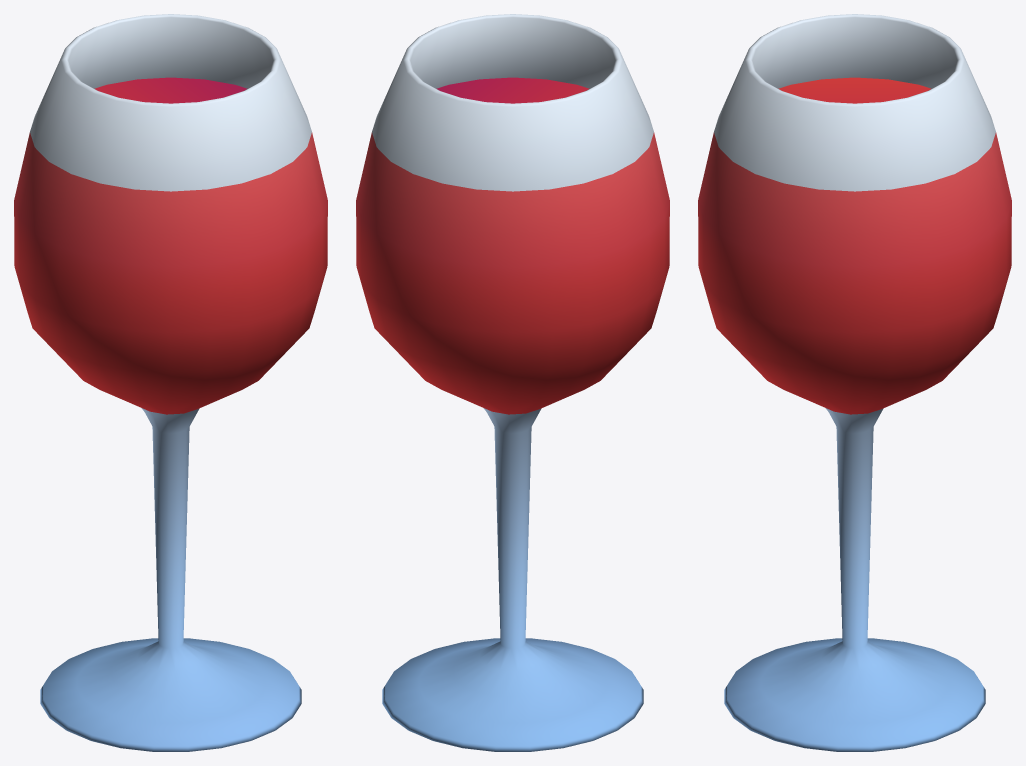
The model's file is cocktail_002.fbx.
3 views of the same model, side by side, from view 1: azimuth 30°, elevation 25°; view 2: azimuth 150°, elevation 25°; view 3: azimuth 270°, elevation 25° (orthographic).
Parts seen in each view (by area): view 1: cocktail_002; view 2: cocktail_002; view 3: cocktail_002.
Part boxes in pixels (x1,y1,x2,y2): cocktail_002: (14,14,327,751); cocktail_002: (356,14,669,751); cocktail_002: (698,14,1011,751).
Size of the model in its own units: 8.95 by 8.95 by 20.08.
